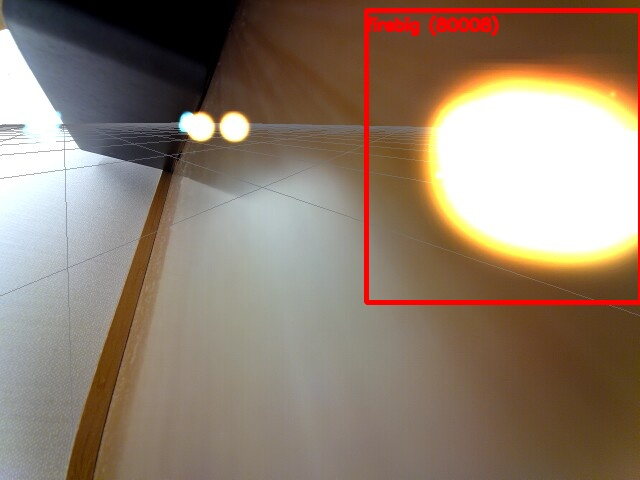firebig: (366, 10, 640, 302)
